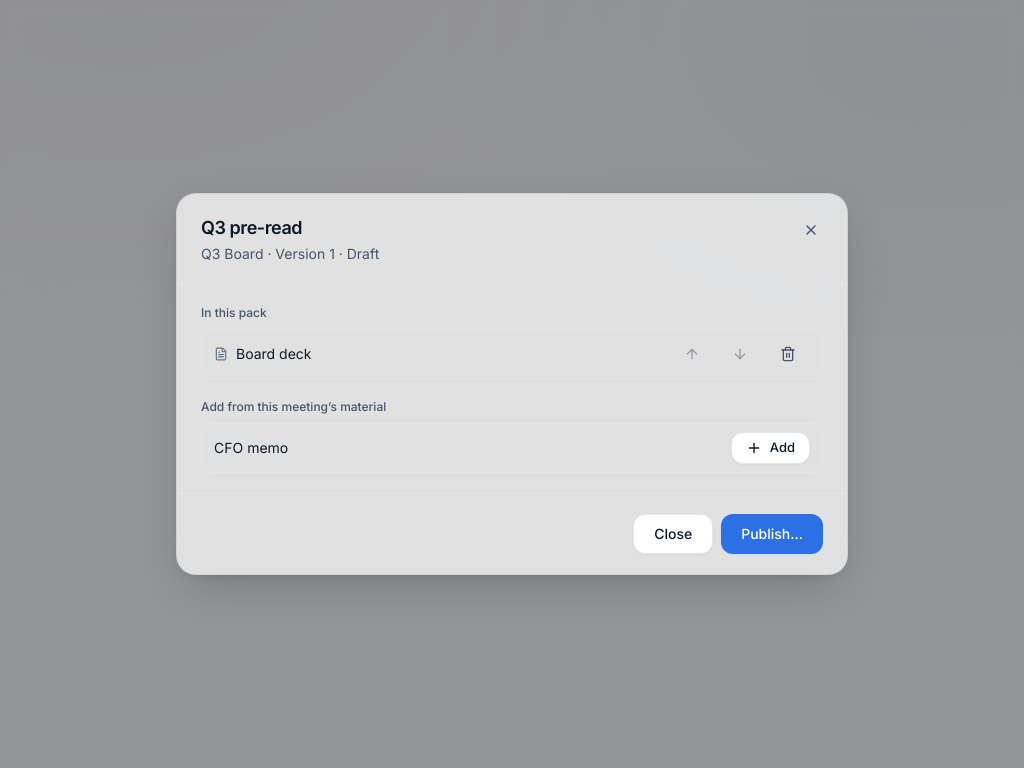
Scenario: when the re-read fails › says the pack may be stale instead of leaving it looking current
Click the button with aria-label "Add CFO memo" at coordinates (770, 448), box [731, 432, 810, 464]
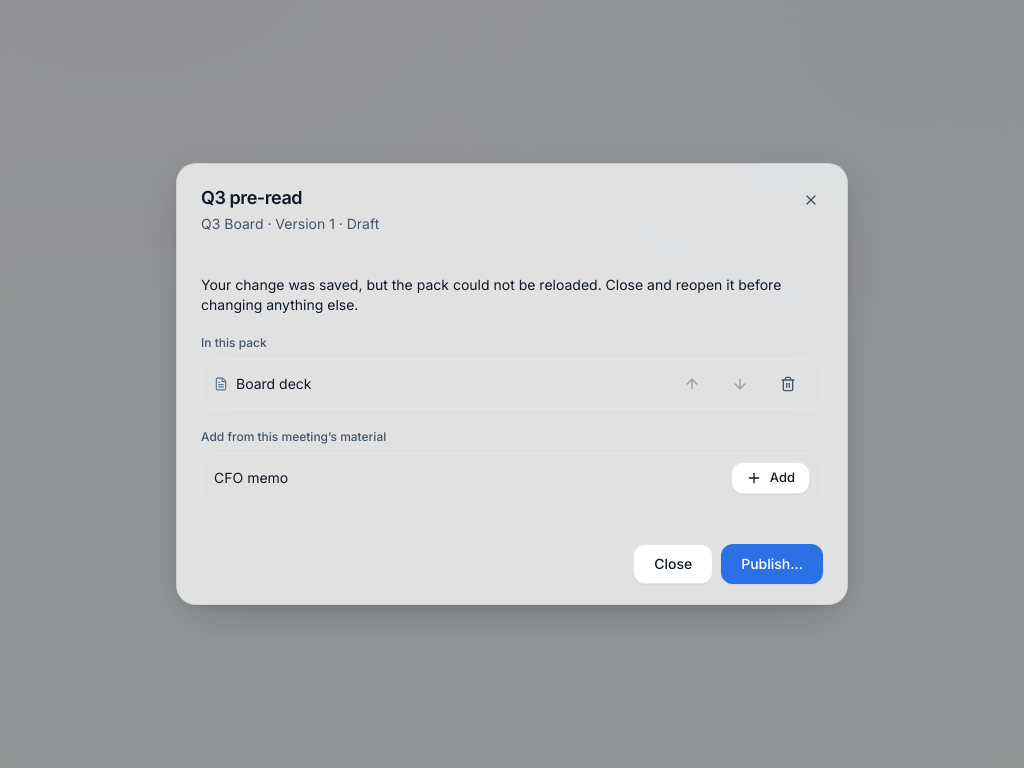
Expected: the text "saved, but the pack could not be reloaded" is shown, [201, 276, 781, 313]
